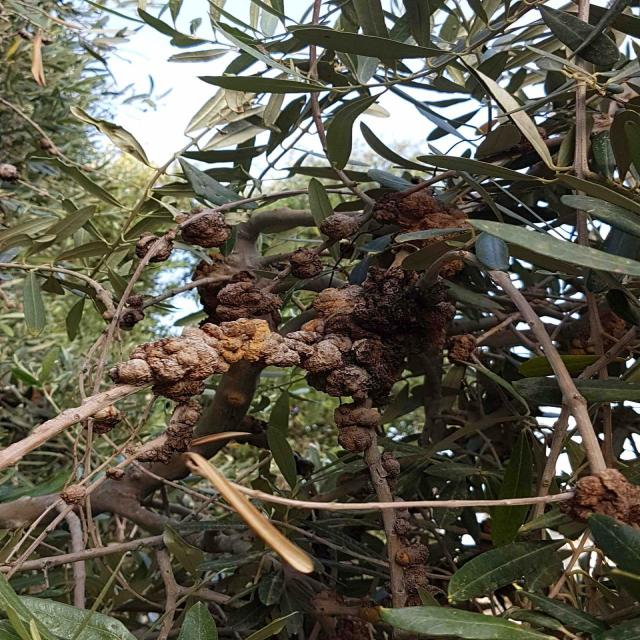Tuberculosis: (299, 268, 454, 406), (110, 319, 343, 401), (561, 468, 639, 529), (131, 399, 201, 464), (376, 189, 470, 235), (215, 282, 280, 326), (334, 400, 385, 452), (395, 542, 440, 596), (178, 208, 231, 249), (318, 213, 370, 242), (135, 232, 173, 263), (88, 405, 125, 436), (289, 248, 323, 280), (381, 451, 403, 492), (447, 334, 477, 364), (60, 482, 91, 508), (391, 508, 415, 540), (106, 467, 125, 480)
